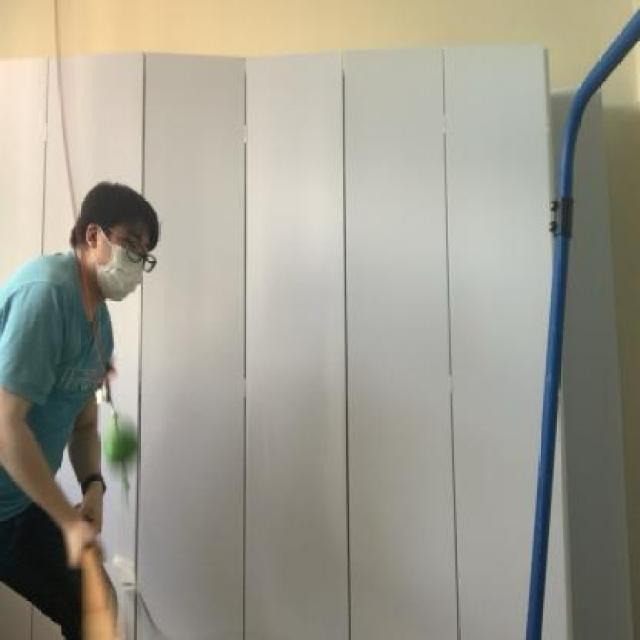baseball: (106, 402, 142, 472)
